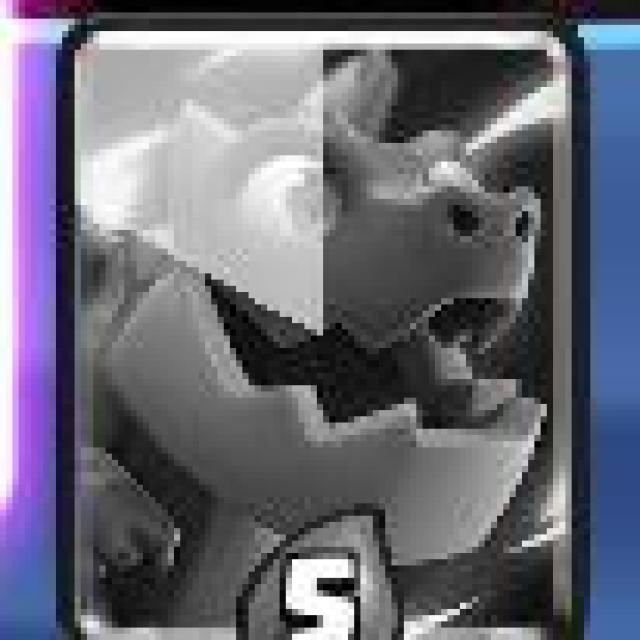Electro_Dragon: (56, 10, 593, 640)
